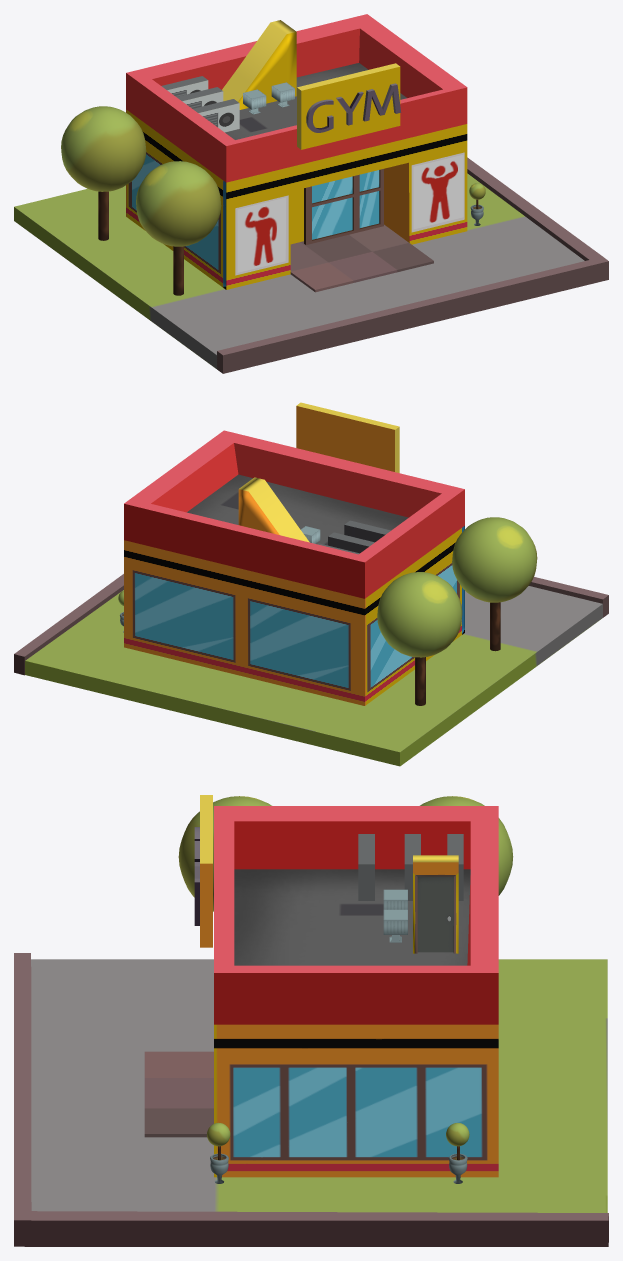
The model's file is maya2sketchfab.fbx.
The picture shows the model from 3 angles, top to bottom: view 1: azimuth 30°, elevation 25°; view 2: azimuth 150°, elevation 25°; view 3: azimuth 270°, elevation 25°; orthographic projection. The views are drawn at different scales.
Parts seen in each view (by area): view 1: Gym_Asset; view 2: Gym_Asset; view 3: Gym_Asset.
Boxes of the visible parts, bbox=[...] form: Gym_Asset: bbox=[14, 14, 608, 373]; Gym_Asset: bbox=[14, 402, 608, 766]; Gym_Asset: bbox=[14, 795, 608, 1246].
Bounding box in the file's own units: 161 × 79.12 × 150.
1 material, 1 textured.
